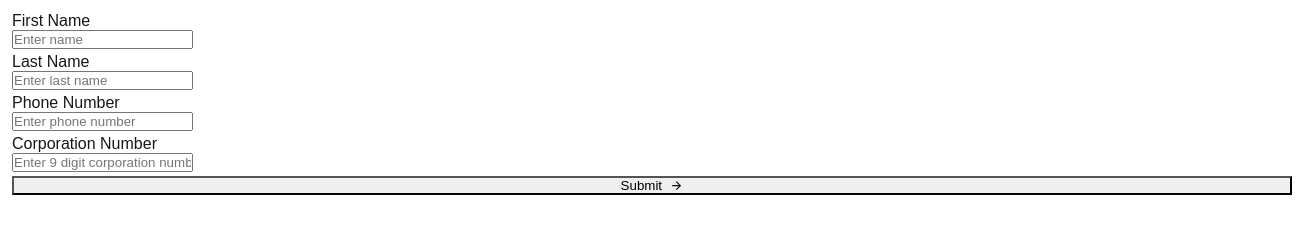
Test: UserStepForm › should validate the form and show error if first name is too short
Type "A" into the field with test id "firstName" at [102, 40], box [12,30,193,49]
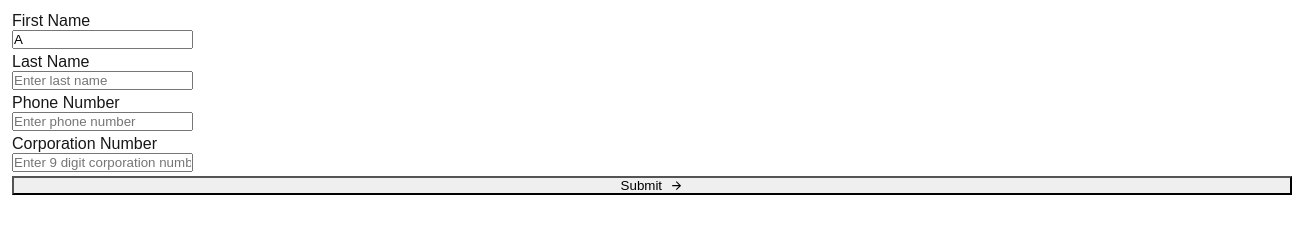
Type "Doe" into the field with test id "lastName" at [102, 80], box [12,71,193,90]
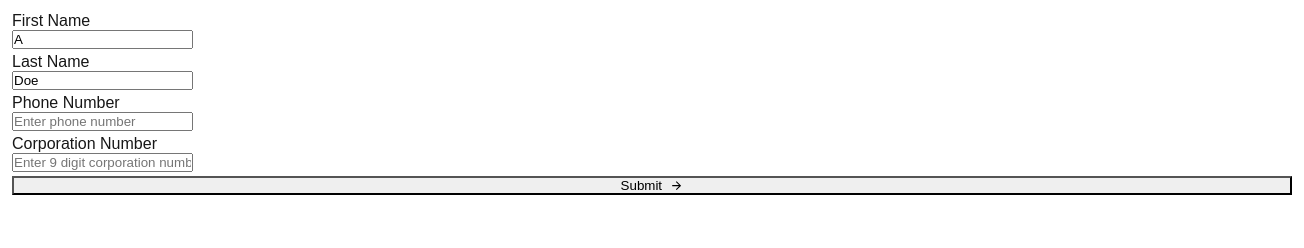
Type "+1234567890" into the field with test id "phone" at [102, 122], box [12,112,193,131]
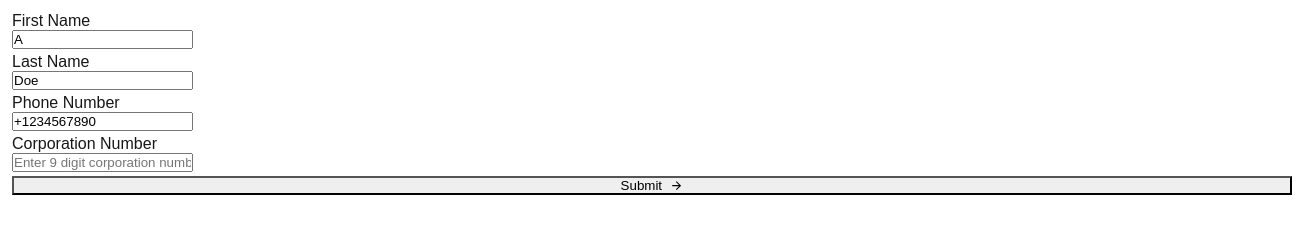
Type "123456789" into the field with test id "corporationNumber" at [102, 162], box [12,153,193,172]
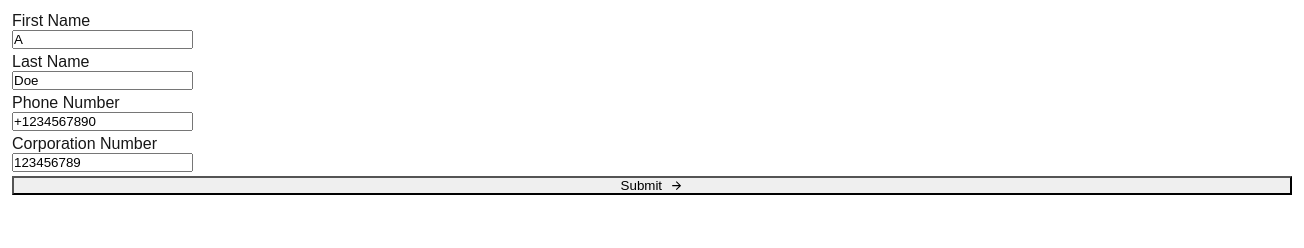
Click the button "Submit" at [652, 186], box [12,176,1292,195]
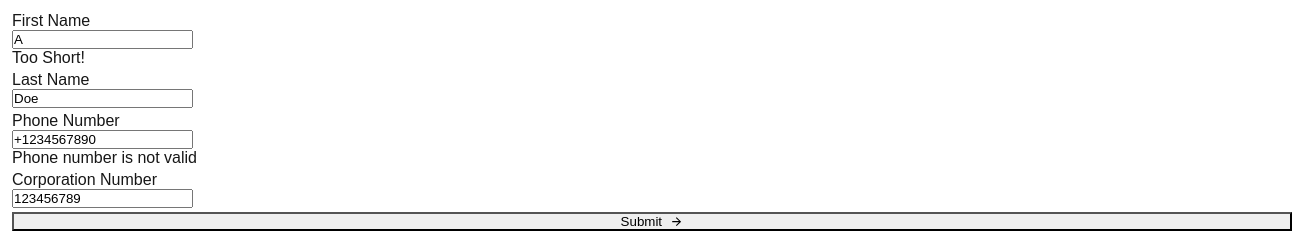
Expected: the text with test id "firstNameError" reads "Too Short!", [12,49,85,66]
